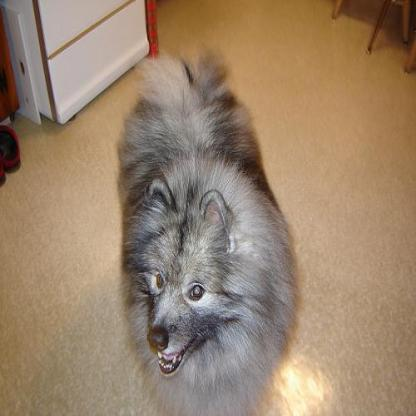keeshond: (115, 41, 299, 413)
